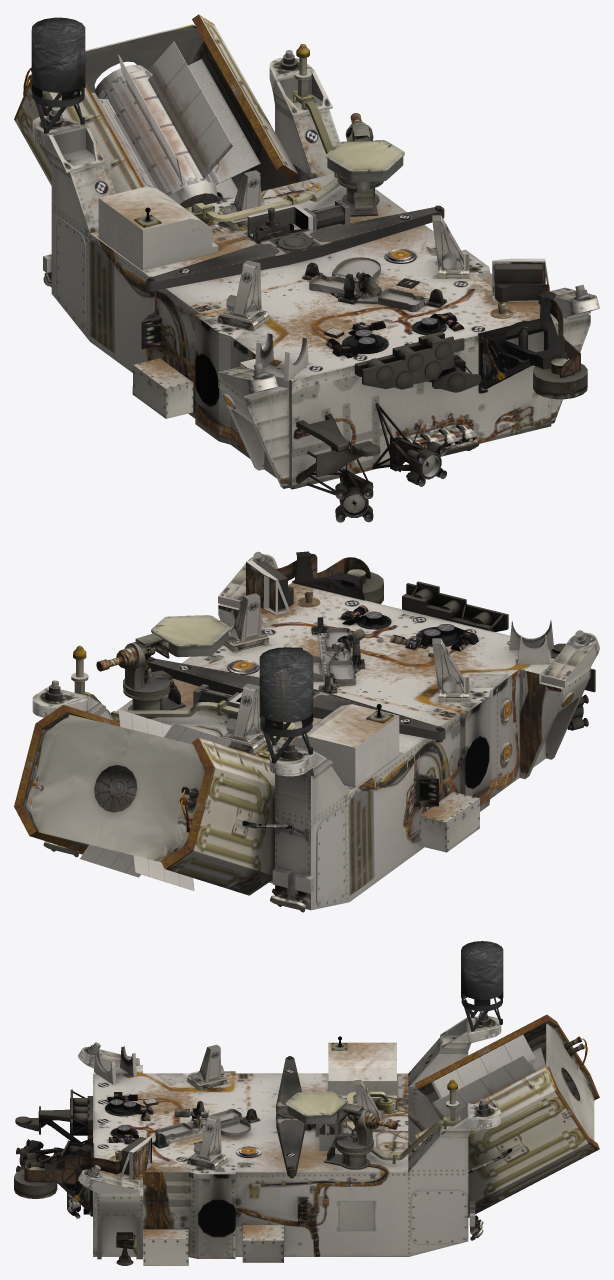
Rendered from chassis_full_fixed_glitch_v2.dae.
3 views of the same model, one above another, from view 1: azimuth 30°, elevation 25°; view 2: azimuth 150°, elevation 25°; view 3: azimuth 270°, elevation 25° (orthographic). The views are drawn at different scales.
Parts seen in each view (by area): view 1: Chassis, stuff, RTG, suspension_xmember, antenna_UHF, OCM, antenna_HG_03, DAN_R, SAM, HazCam_-_front; view 2: stuff, Chassis, RTG, antenna_UHF, suspension_xmember, antenna_HG_03, DAN_R, OCM, antenna_HG_01, HazCam_-_rear, SAM, CheMin (+1 smaller); view 3: Chassis, stuff, RTG, antenna_UHF, DAN_L, suspension_xmember, antenna_HG_03, antenna_HG_01, OCM, SAM, MARDI.
Part boxes in pixels (<box>): Chassis: <box>32,57,599,489</box>; stuff: <box>14,14,590,522</box>; RTG: <box>91,41,260,208</box>; suspension_xmember: <box>146,205,444,292</box>; antenna_UHF: <box>31,17,85,133</box>; OCM: <box>355,331,481,392</box>; antenna_HG_03: <box>325,125,404,182</box>; DAN_R: <box>56,219,85,327</box>; SAM: <box>325,320,388,358</box>; HazCam_-_front: <box>402,424,478,464</box>; stuff: <box>14,551,595,895</box>; Chassis: <box>32,554,599,910</box>; RTG: <box>80,709,232,890</box>; antenna_UHF: <box>259,647,313,763</box>; suspension_xmember: <box>147,657,445,742</box>; antenna_HG_03: <box>133,615,230,658</box>; DAN_R: <box>316,807,346,906</box>; OCM: <box>402,581,508,631</box>; antenna_HG_01: <box>96,642,170,700</box>; HazCam_-_rear: <box>44,841,314,908</box>; SAM: <box>390,626,478,651</box>; CheMin: <box>340,605,391,629</box>; Chassis: <box>78,1016,501,1259</box>; stuff: <box>14,1011,599,1265</box>; RTG: <box>431,1034,571,1118</box>; antenna_UHF: <box>461,941,503,1031</box>; DAN_L: <box>410,1190,467,1244</box>; suspension_xmember: <box>276,1056,315,1178</box>; antenna_HG_03: <box>285,1091,365,1124</box>; antenna_HG_01: <box>336,1109,397,1155</box>; OCM: <box>60,1089,92,1158</box>; SAM: <box>105,1092,152,1120</box>; MARDI: <box>116,1232,137,1265</box>.
Size of the model in its own units: 1.54 by 2.88 by 1.19.
7 materials, 6 textured.
